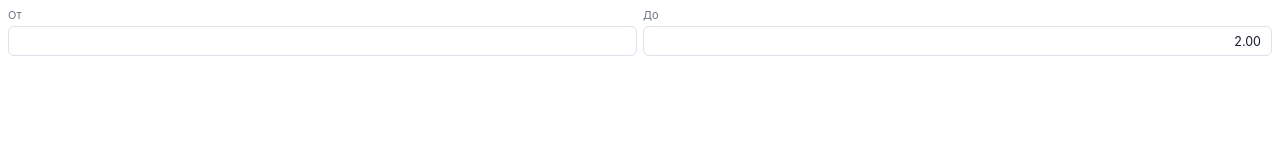
Scenario: AmountRange › передаёт обратный диапазон в исходном порядке и отмечает обе границы
In the field labelled "От": {"x": 322, "y": 41} 17,26 -> 628,56, type "3"
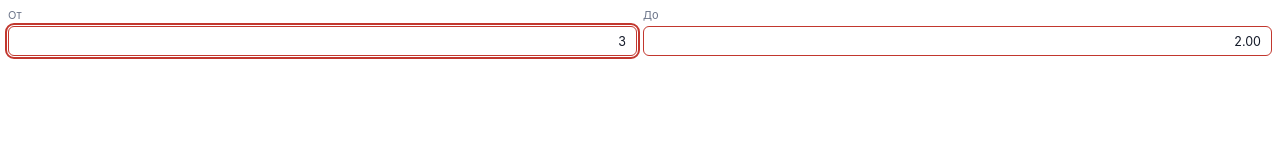
Expected: the field labelled "От" is marked as invalid, 17,26 -> 628,56
